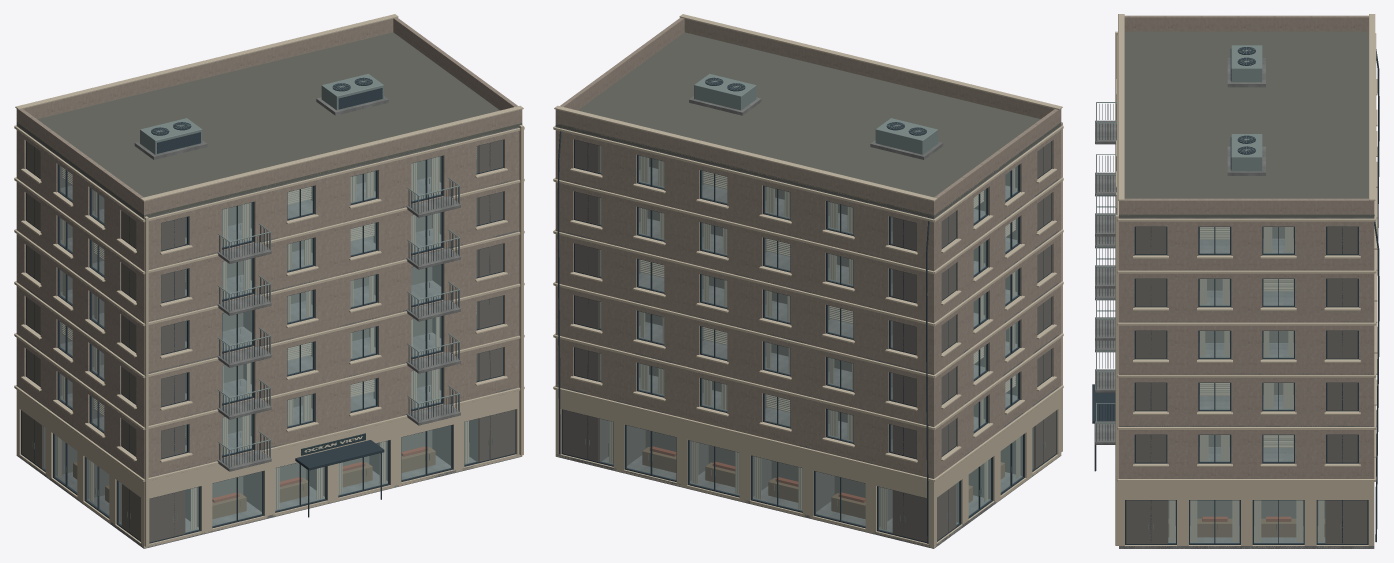
File: ocean-view-v2.glb
3 views of the same model, side by side, from view 1: azimuth 30°, elevation 25°; view 2: azimuth 150°, elevation 25°; view 3: azimuth 270°, elevation 25° (orthographic).
Visible parts, largest first — view 1: Plaster (×11), Limestone (×13), Roof_membrane, Recessed_clear_glass (×7), Interior_plaster (×19), Concrete (×6), Powder_coated_aluminium (×11), Linen_curtains (×5), Galvanised_metal, Weathered_teak; view 2: Plaster (×11), Limestone (×13), Roof_membrane, Recessed_clear_glass (×7), Interior_plaster (×19), Powder_coated_aluminium (×12), Concrete, Linen_curtains (×6), Galvanised_metal, Weathered_teak; view 3: Plaster (×6), Roof_membrane, Limestone (×10), Interior_plaster (×16), Recessed_clear_glass (×6), Concrete (×6), Powder_coated_aluminium (×9), Linen_curtains (×6), Galvanised_metal, Weathered_teak.
Boxes of the visible parts, <box> form: Plaster (×11): <box>16,17,522,478</box>; Limestone (×13): <box>14,14,524,548</box>; Roof_membrane: <box>16,32,522,217</box>; Recessed_clear_glass (×7): <box>44,146,477,532</box>; Interior_plaster (×19): <box>21,140,515,542</box>; Concrete (×6): <box>16,96,521,548</box>; Powder_coated_aluminium (×11): <box>21,77,516,543</box>; Linen_curtains (×5): <box>185,147,476,529</box>; Galvanised_metal: <box>140,73,383,154</box>; Weathered_teak: <box>212,443,469,518</box>; Plaster (×11): <box>555,17,1061,478</box>; Limestone (×13): <box>553,14,1063,548</box>; Roof_membrane: <box>555,32,1061,217</box>; Recessed_clear_glass (×7): <box>600,146,1033,532</box>; Interior_plaster (×19): <box>562,140,1056,541</box>; Powder_coated_aluminium (×12): <box>557,77,1056,543</box>; Concrete: <box>555,96,1061,548</box>; Linen_curtains (×6): <box>601,156,892,529</box>; Galvanised_metal: <box>694,73,937,154</box>; Weathered_teak: <box>608,443,865,518</box>; Plaster (×6): <box>1119,15,1374,478</box>; Roof_membrane: <box>1119,31,1374,217</box>; Limestone (×10): <box>1115,14,1377,548</box>; Interior_plaster (×16): <box>1126,227,1367,543</box>; Recessed_clear_glass (×6): <box>1168,227,1324,542</box>; Concrete (×6): <box>1095,58,1374,548</box>; Powder_coated_aluminium (×9): <box>1092,47,1379,544</box>; Linen_curtains (×6): <box>1169,227,1324,541</box>; Galvanised_metal: <box>1231,45,1262,171</box>; Weathered_teak: <box>1168,518,1325,537</box>.
Bounding box in the file's own units: 24.34 × 21.33 × 15.76.
12 materials, 3 textured.
